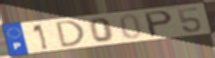0: (118, 13, 145, 41), (88, 17, 117, 43)
1: (32, 23, 50, 50)
5: (176, 6, 203, 33)
D: (55, 19, 87, 49)
P: (143, 10, 175, 39)
